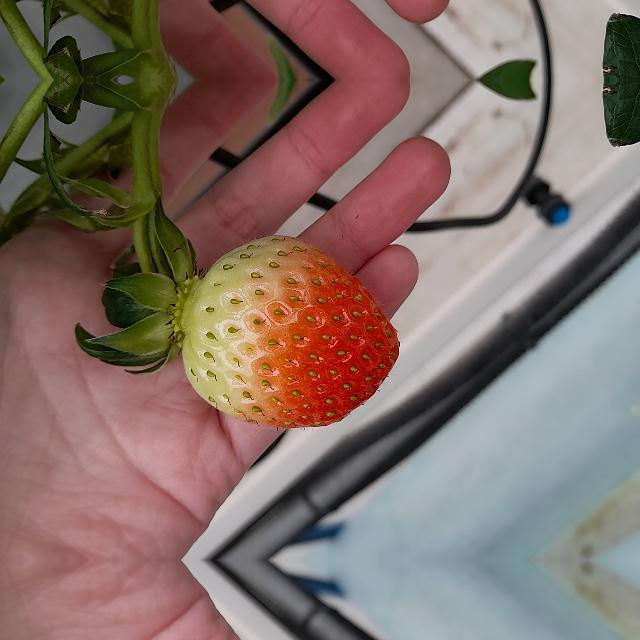Health_75: (182, 235, 400, 428)
